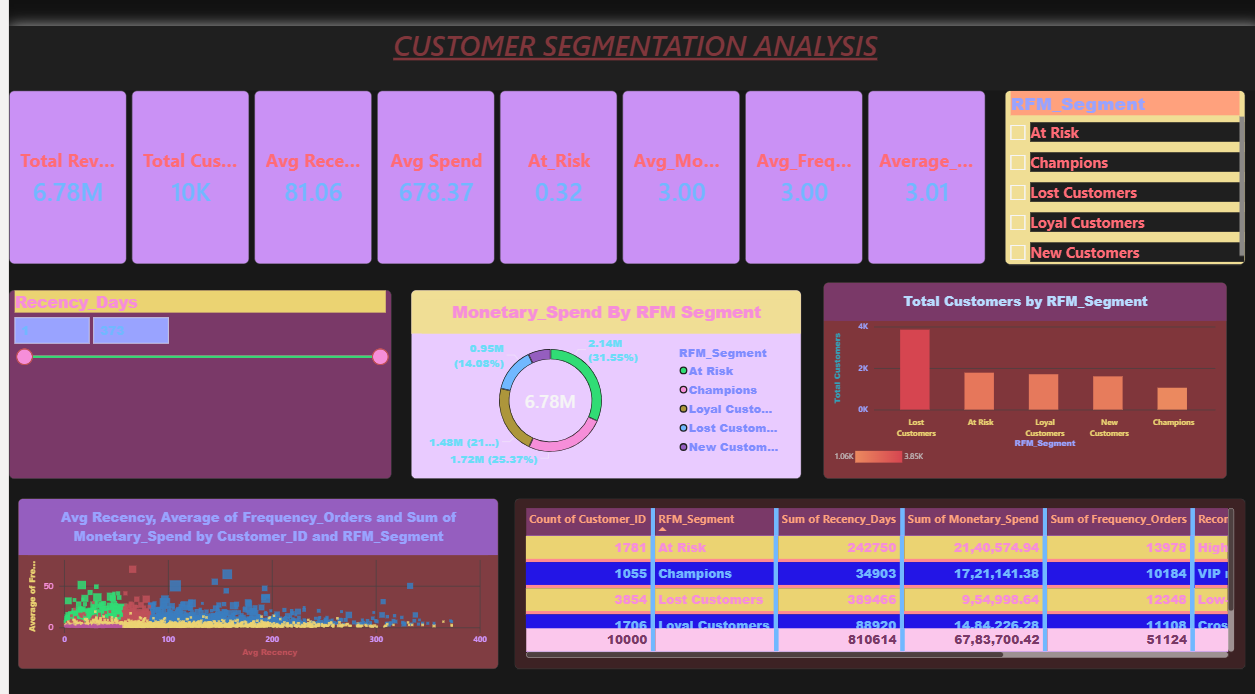

This screenshot's page, from the dashboard's own definition file:
{"tool":"powerbi","page":{"name":"Page 1","canvas":[1920,1080],"ordinal":0},"visuals":[{"type":"cardVisual","fields":{"Data":["rfm_10k_customer_segments.Total Revenue","rfm_10k_customer_segments.Total Customers","rfm_10k_customer_segments.Avg Recency","rfm_10k_customer_segments.Avg Spend","rfm_10k_customer_segments.At_Risk"]},"box":[0,99.2,1499.5,266.5],"z":0},{"type":"donutChart","title":"Monetary_Spend By RFM Segment","fields":{"Y":["Sum(rfm_10k_customer_segments.Monetary_Spend)"],"Category":["rfm_10k_customer_segments.RFM_Segment"]},"box":[615.1,405.4,598.1,289.1],"z":1},{"type":"clusteredColumnChart","fields":{"Y":["rfm_10k_customer_segments.Total Customers"],"Category":["rfm_10k_customer_segments.RFM_Segment"]},"box":[1247.3,394,618,300.5],"z":2},{"type":"scatterChart","fields":{"Category":["rfm_10k_customer_segments.Customer_ID"],"X":["rfm_10k_customer_segments.Avg Recency"],"Y":["Avg(rfm_10k_customer_segments.Frequency_Orders)"],"Series":["rfm_10k_customer_segments.RFM_Segment"],"Size":["Sum(rfm_10k_customer_segments.Monetary_Spend)"]},"box":[14.2,725.7,737,289.1],"z":3},{"type":"tableEx","fields":{"Values":["CountNonNull(rfm_10k_customer_segments.Customer_ID)","rfm_10k_customer_segments.RFM_Segment","Sum(rfm_10k_customer_segments.Recency_Days)","Sum(rfm_10k_customer_segments.Monetary_Spend)","Sum(rfm_10k_customer_segments.Frequency_Orders)","rfm_10k_customer_segments.Recommended_Action"]},"box":[844.7,725.7,1048.8,289.1],"z":4},{"type":"slicer","fields":{"Values":["rfm_10k_customer_segments.RFM_Segment"]},"box":[1556.2,99.2,337.3,266.5],"z":5},{"type":"slicer","fields":{"Values":["rfm_10k_customer_segments.Recency_Days"]},"box":[28.3,405.4,538.6,289.1],"z":6}]}

Visuals, with their boxes in screenshot pixels (x1, y1, x2, y2), scaled from the page's 1920x1080 canvas onto the 1255x694 screenshot:
cardVisual - rfm_10k_customer_segments.Total Revenue x rfm_10k_customer_segments.Total Customers: 0, 64, 980, 235
"Monetary_Spend By RFM Segment" donutChart: 402, 261, 793, 446
clusteredColumnChart - rfm_10k_customer_segments.Total Customers x rfm_10k_customer_segments.RFM_Segment: 815, 253, 1219, 446
scatterChart - rfm_10k_customer_segments.Customer_ID x rfm_10k_customer_segments.Avg Recency: 9, 466, 491, 652
tableEx - CountNonNull(rfm_10k_customer_segments.Customer_ID) x rfm_10k_customer_segments.RFM_Segment: 552, 466, 1238, 652
slicer - rfm_10k_customer_segments.RFM_Segment: 1017, 64, 1238, 235
slicer - rfm_10k_customer_segments.Recency_Days: 18, 261, 371, 446
